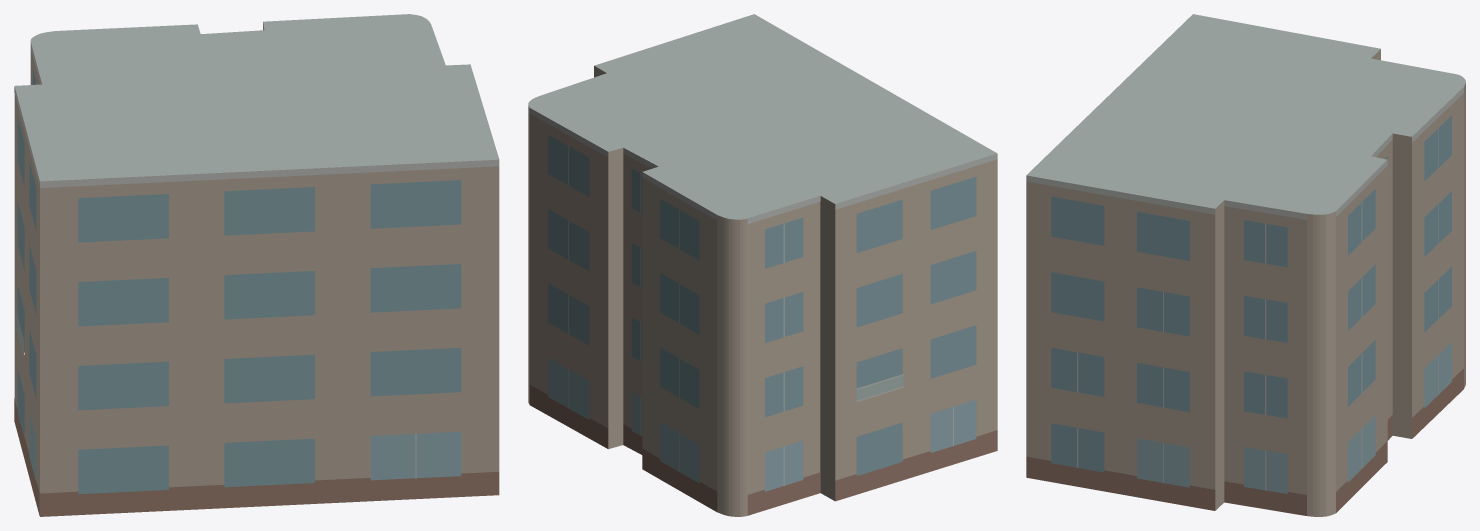
Rendered from survey-upis-32958155.glb.
3 renders of one model, left to right at view 1: azimuth 30°, elevation 25°; view 2: azimuth 150°, elevation 25°; view 3: azimuth 270°, elevation 25°, orthographic. The views are drawn at different scales.
Parts seen in each view (by area): view 1: survey-upis-32958155.tmp; view 2: survey-upis-32958155.tmp; view 3: survey-upis-32958155.tmp.
Boxes of the visible parts, x1,y1,x2,y2 form: survey-upis-32958155.tmp: (14, 14, 499, 516); survey-upis-32958155.tmp: (528, 14, 997, 516); survey-upis-32958155.tmp: (1026, 14, 1465, 516).
Size of the model in its own units: 17.61 by 12.36 by 16.3.
